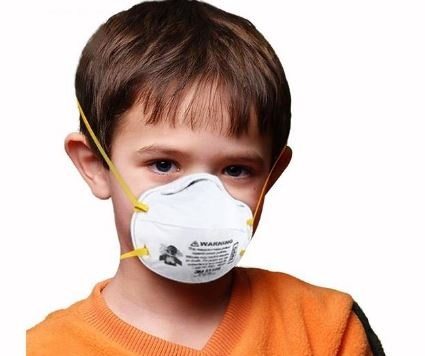n95: (121, 171, 257, 285)
